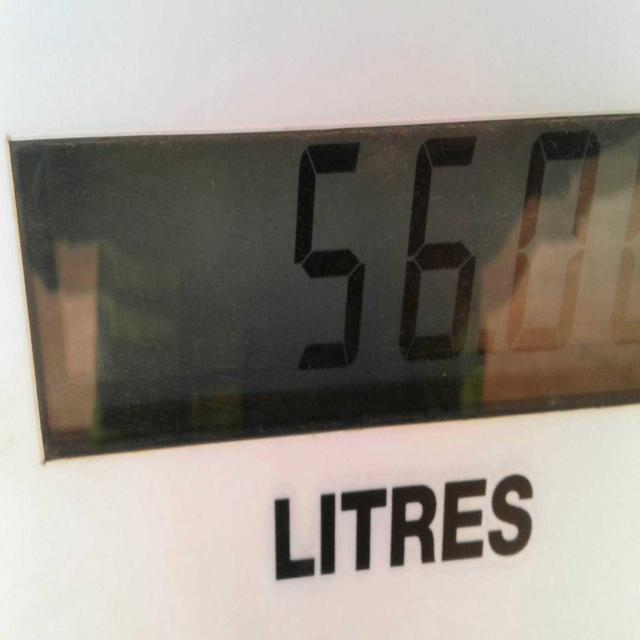.: (464, 306, 496, 374)
0: (493, 132, 606, 378)
5: (257, 144, 382, 365)
6: (392, 137, 481, 379)
